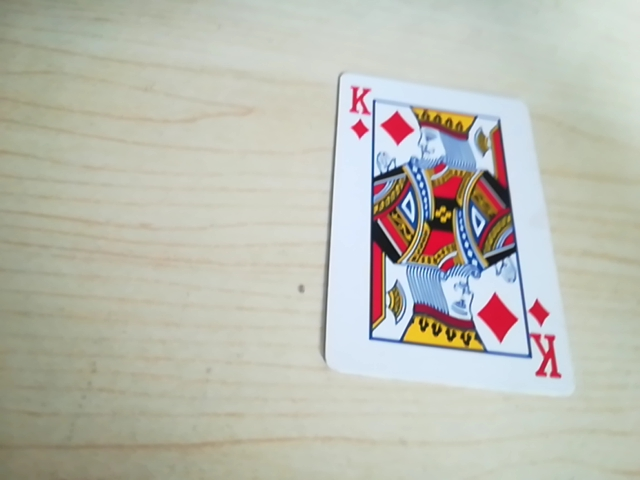fk k: (344, 76, 380, 145), (530, 325, 565, 389)
